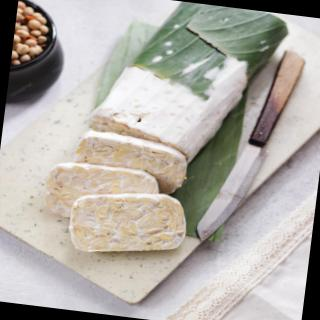Tempe: (66, 184, 191, 265), (42, 159, 163, 230), (72, 129, 193, 198)
